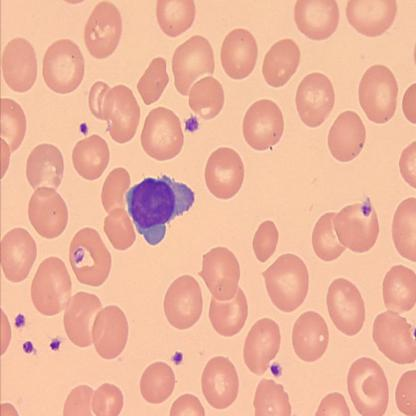Atypical lymphocyte: (126, 173, 194, 246)
